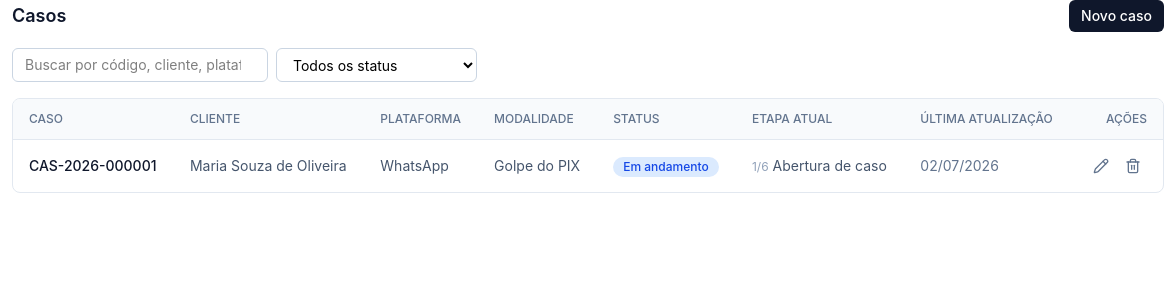
it: CasesPage › delega busca e filtro ao backend, que é quem enxerga o nome do cliente
Expected: the link "CAS-2026-000001" is shown, [29,157,156,174]
Step 1. Type "Maria" into the search field named "Buscar casos" → (140, 65), box [12,48,268,82]
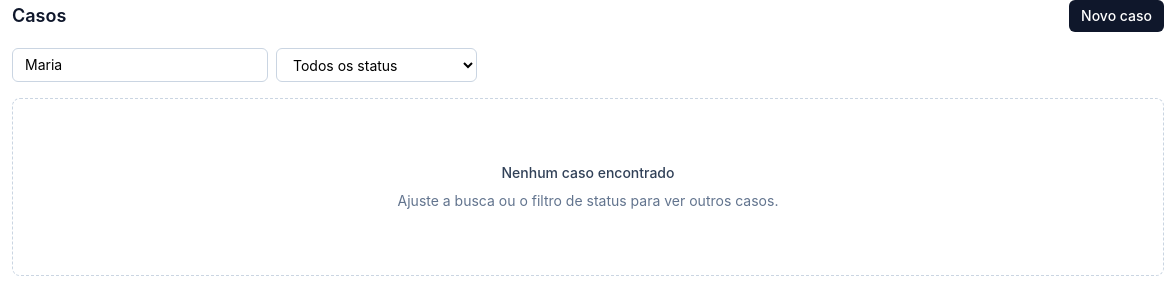
Result: the text "Nenhum caso encontrado" is shown at [502,163,674,183]
